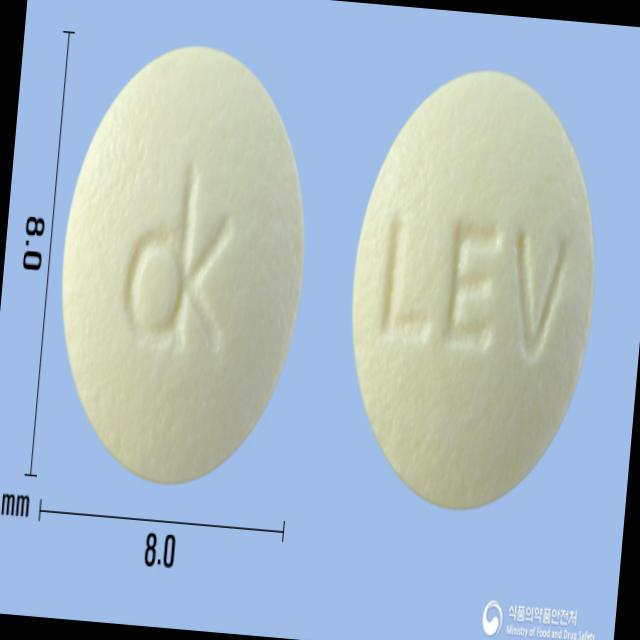Levoracin: (336, 55, 614, 517), (46, 35, 322, 498)
